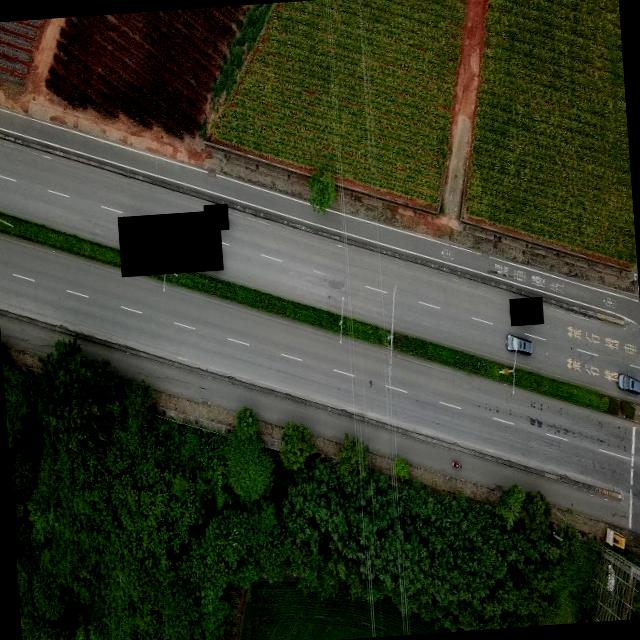car: (504, 331, 532, 356), (616, 370, 640, 395)
